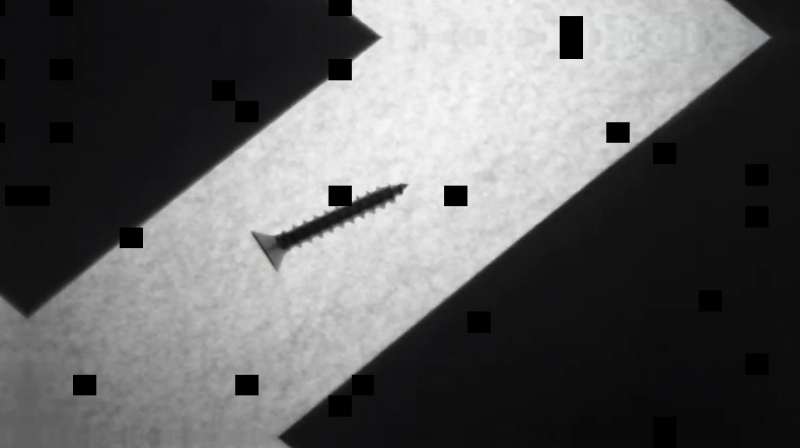S001: (246, 180, 412, 274)
